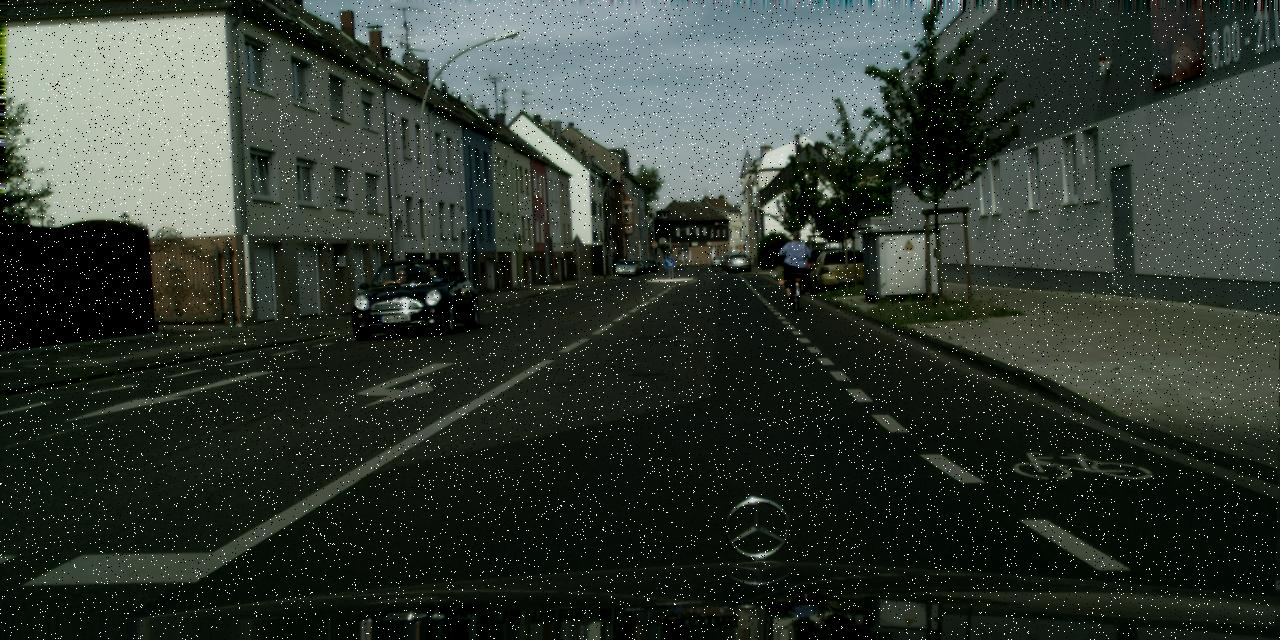ped: (783, 231, 810, 297)
